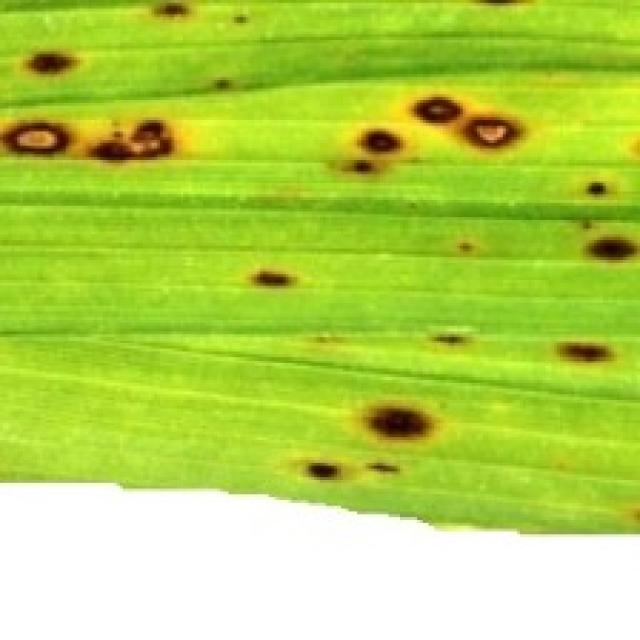Unhealthy: (320, 84, 540, 181), (0, 105, 190, 173), (268, 448, 416, 490), (339, 395, 452, 449), (576, 216, 639, 267), (14, 47, 85, 81), (550, 337, 620, 368), (239, 264, 303, 294), (428, 330, 482, 350), (151, 0, 197, 23), (581, 175, 615, 200), (210, 77, 235, 94), (469, 0, 535, 6), (455, 238, 476, 255)
